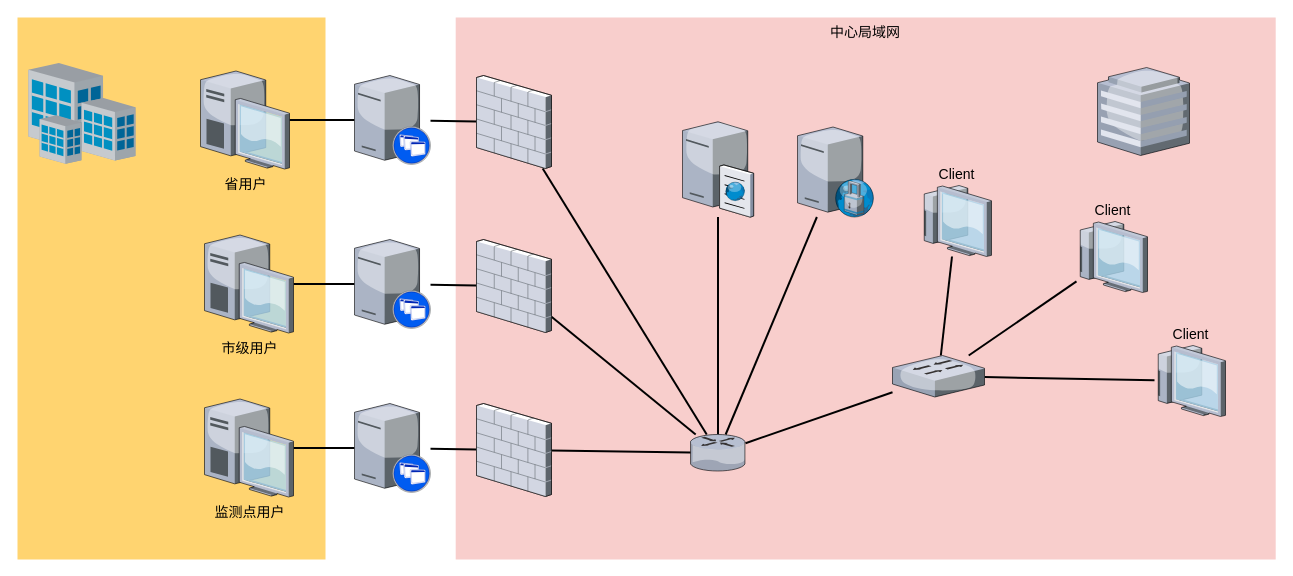
Some shapes in this 1293 by 576 pixel diagram are drawn without their labels. Here are the shapes that lost their labels. From the top down, the centre of each, then its label:
point 717,167: Web Server
point 835,171: SQL Server
